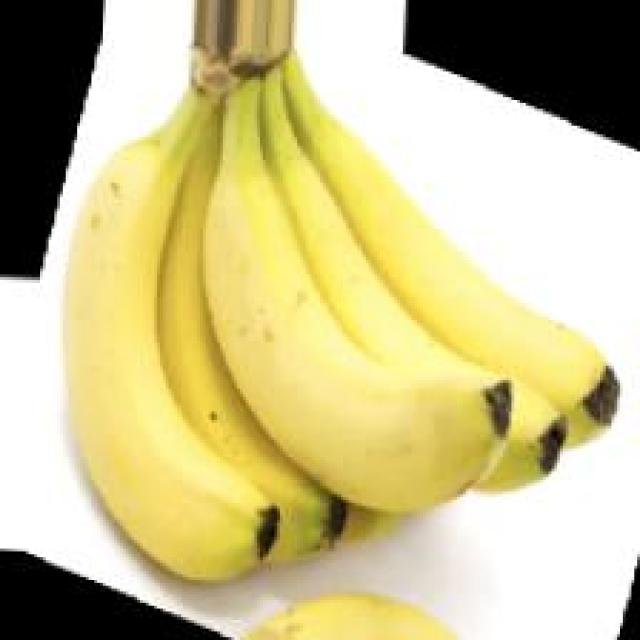banana: (38, 66, 633, 599)
